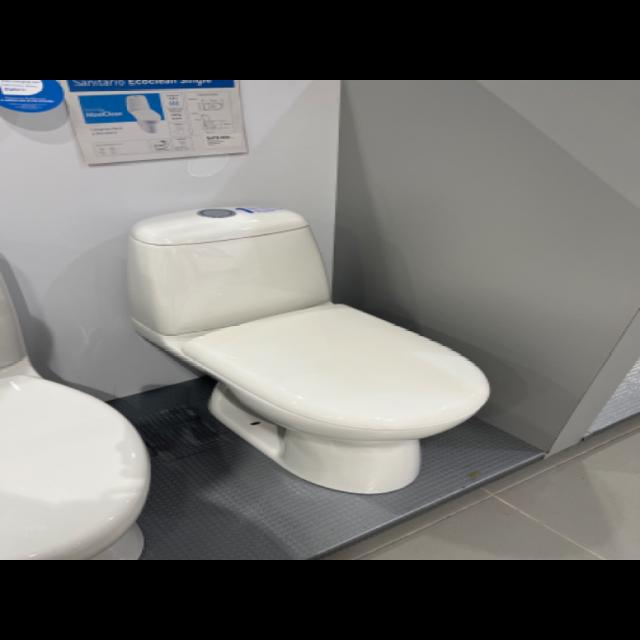toilet: (126, 205, 490, 494), (0, 270, 150, 560)
